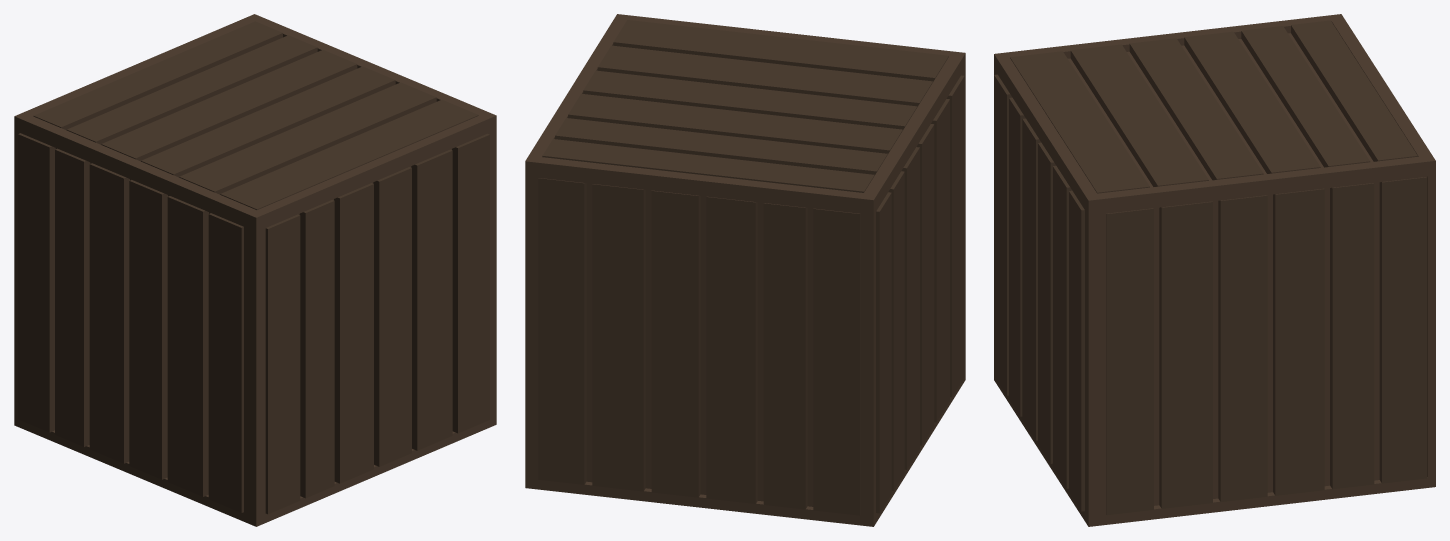
The model's file is caja.fbx.
The picture shows the model from 3 angles, left to right: view 1: azimuth 30°, elevation 25°; view 2: azimuth 150°, elevation 25°; view 3: azimuth 270°, elevation 25°; orthographic projection. The views are drawn at different scales.
Visible parts, largest first — view 1: Caja24; view 2: Caja24; view 3: Caja24.
Part boxes in pixels (x1,y1,x2,y2): Caja24: (14,14,496,526); Caja24: (525,14,965,526); Caja24: (994,14,1435,526).
Size of the model in its own units: 2.63 by 2.15 by 2.62.
